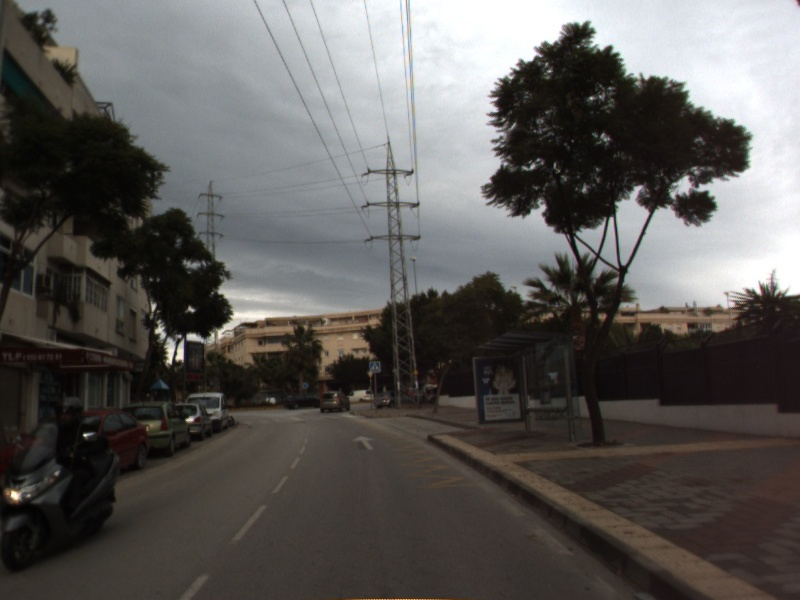STRAIGHT: (350, 433, 378, 452)
